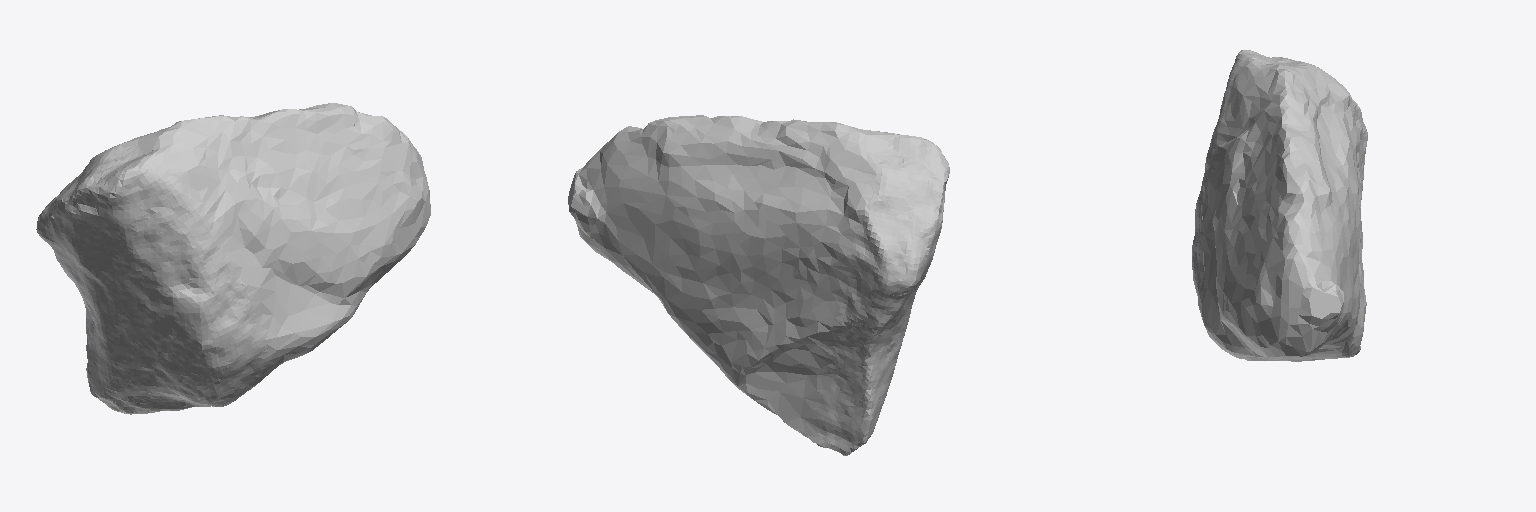
File: final_sp1_pca.obj
The picture shows the model from 3 angles: view 1: azimuth 30°, elevation 25°; view 2: azimuth 150°, elevation 25°; view 3: azimuth 270°, elevation 25°; orthographic projection.
Visible parts, largest first — view 1: akshay_2; view 2: akshay_2; view 3: akshay_2.
Boxes of the visible parts, x1=… form: akshay_2: x1=36, y1=103, x2=430, y2=414; akshay_2: x1=568, y1=115, x2=949, y2=455; akshay_2: x1=1192, y1=50, x2=1367, y2=361.
Size of the model in its own units: 0.9809 by 0.7724 by 0.4081.